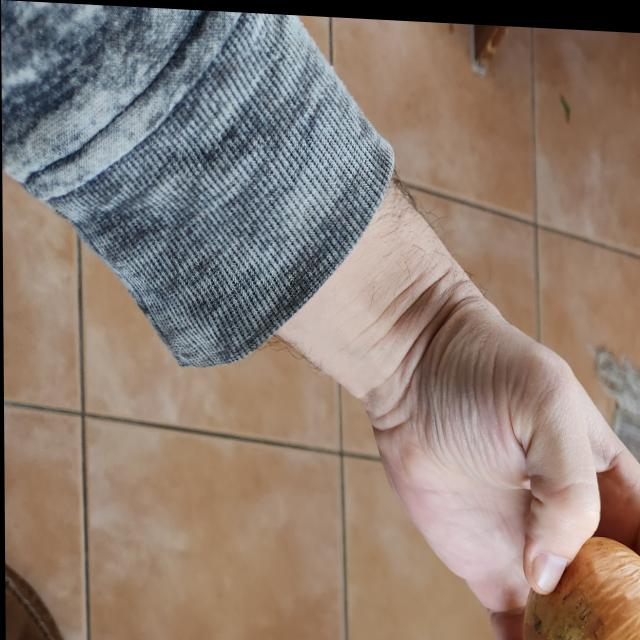brown onion: (521, 520, 640, 640)
